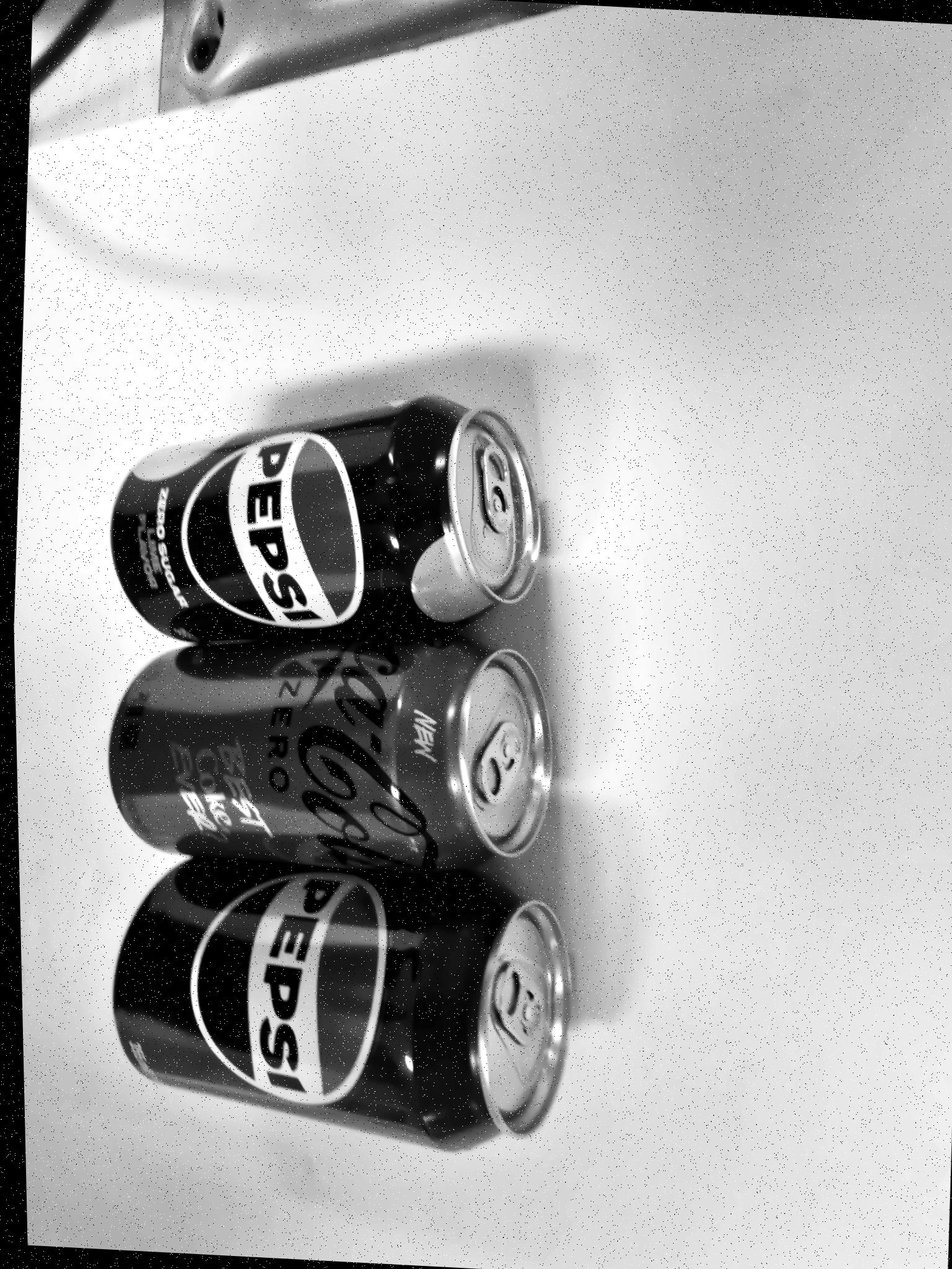can_coke_zero: (105, 645, 550, 873)
can_pepsi: (115, 865, 566, 1153)
can_pepsi_zero: (116, 397, 535, 654)
